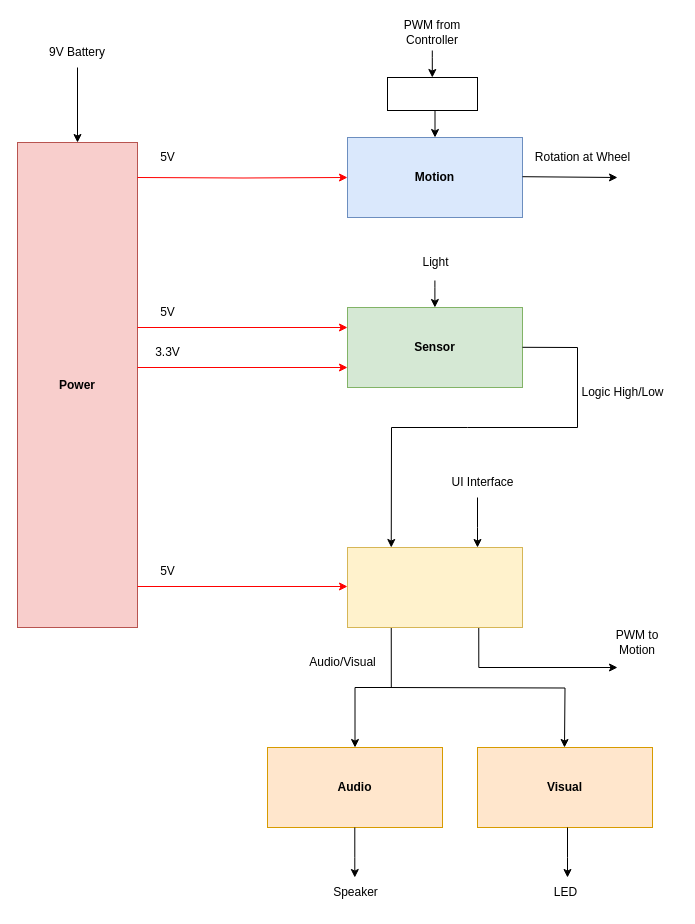
Image size: 695x924. Some labels were removed from this diagram. The centre of each missing label's shape, as x and y in pixels:
"Control" goes at point (434, 587).
"Match Signal to VCC" goes at point (432, 93).
